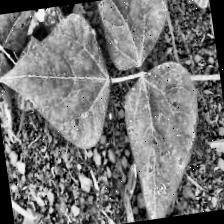ALS: (0, 14, 119, 157), (123, 58, 211, 220), (97, 0, 170, 69), (0, 32, 23, 145)
